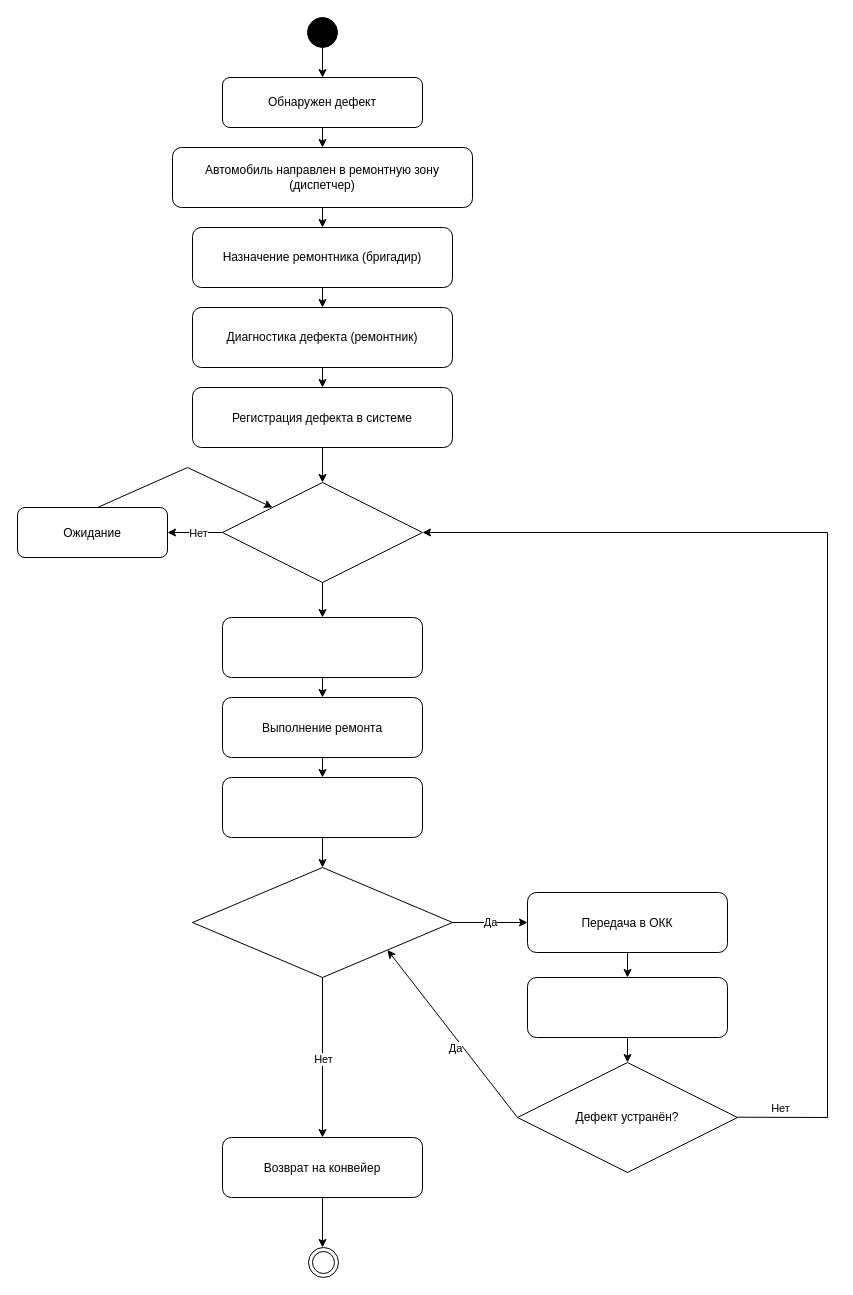
The diagram is 853 pixels wide and 1295 high, and some of its shapes have lost their labels. The shapes that lost their labels are listed below. From the top down, each one's centre as x and y in pixels, then its label:
the point at 322,532: Есть свободное ремонтное место?
the point at 322,647: Фиксация начала ремонта
the point at 322,807: Фиксация окончания ремонта
the point at 322,922: Требуется повторное тестирование?
the point at 627,1007: Повторное тестирование
